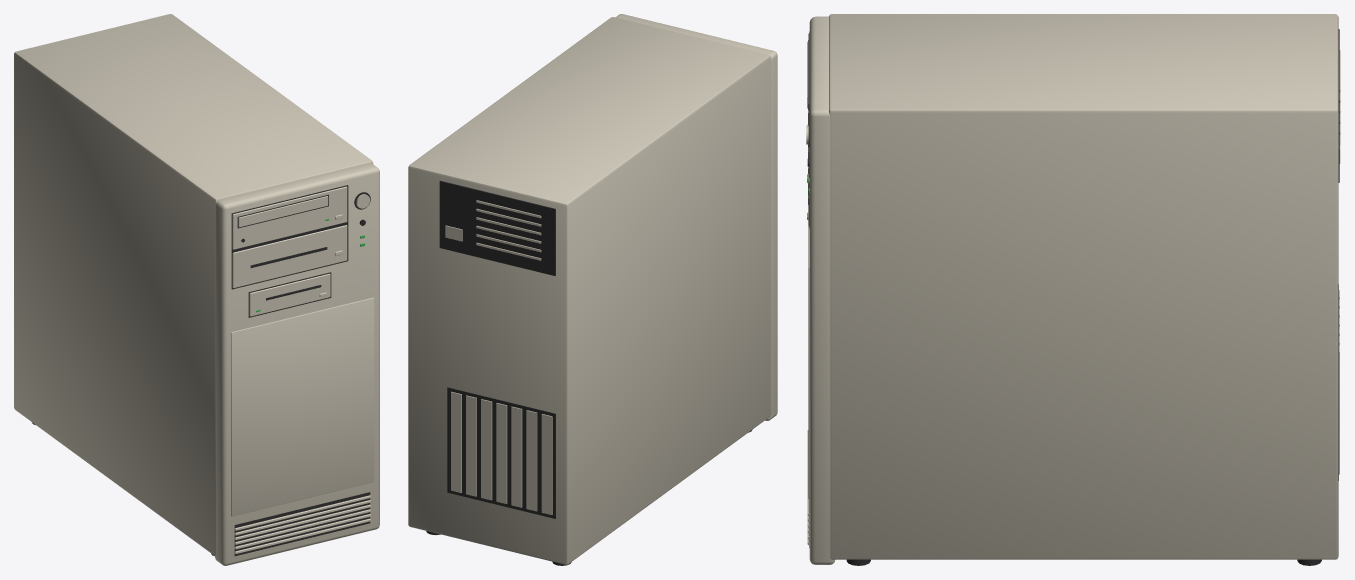
Rendered from SM_PCTower.fbx.
The picture shows the model from 3 angles, left to right: view 1: azimuth 30°, elevation 25°; view 2: azimuth 150°, elevation 25°; view 3: azimuth 270°, elevation 25°; orthographic projection. The views are drawn at different scales.
Parts seen in each view (by area): view 1: SM_PCTower; view 2: SM_PCTower; view 3: SM_PCTower.
Boxes of the visible parts, bbox=[...] form: SM_PCTower: bbox=[14, 14, 379, 565]; SM_PCTower: bbox=[408, 14, 777, 565]; SM_PCTower: bbox=[806, 14, 1340, 565].
Bounding box in the file's own units: 20.7 × 45.7 × 47.98.
